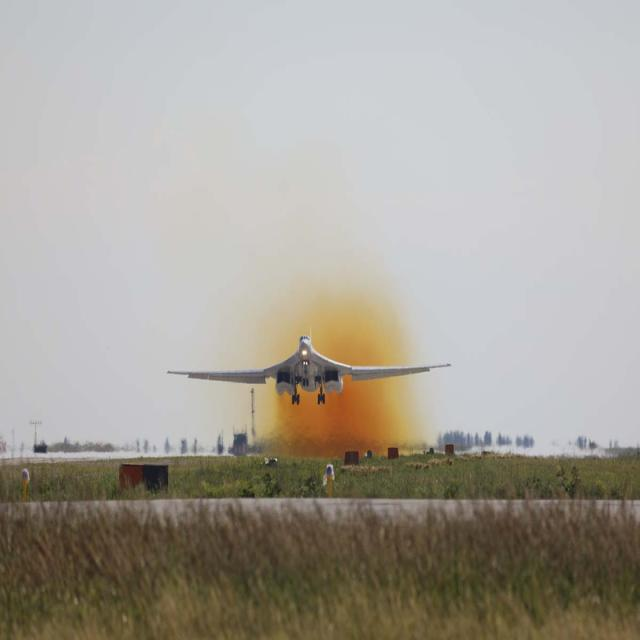MIL_Plane: (165, 326, 451, 404)
